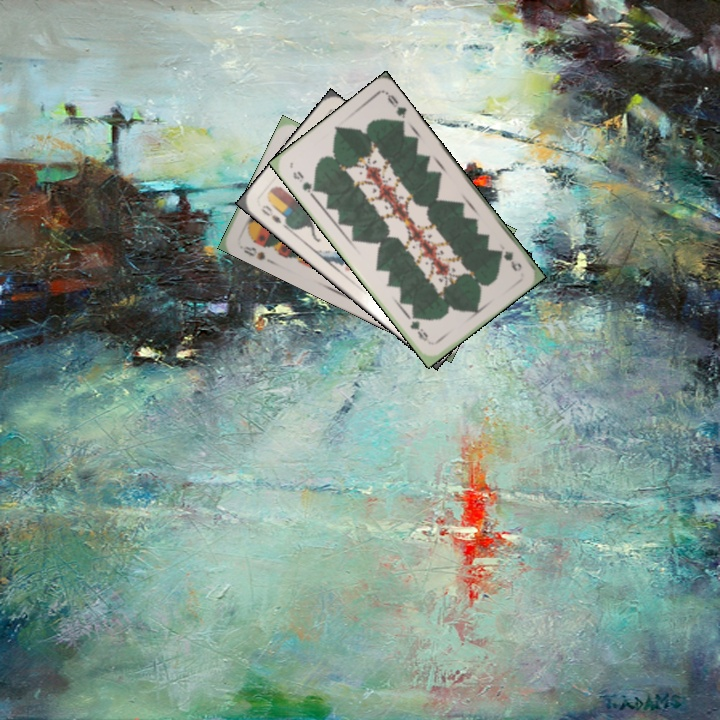EO: (257, 201, 290, 230)
G9: (289, 167, 320, 199), (494, 246, 524, 274)
S8: (238, 242, 268, 263)
